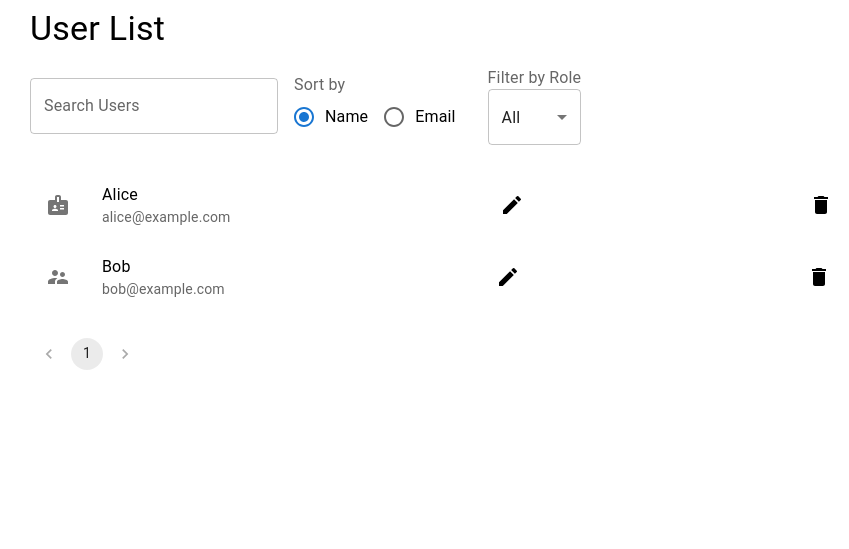
Scenario: UserEmployeeListMittel Component › should remove a user from the list
The width and height of the screenshot is (849, 549).
Click the button named "delete-Alice" at point(821, 206), box [809,194,833,218]
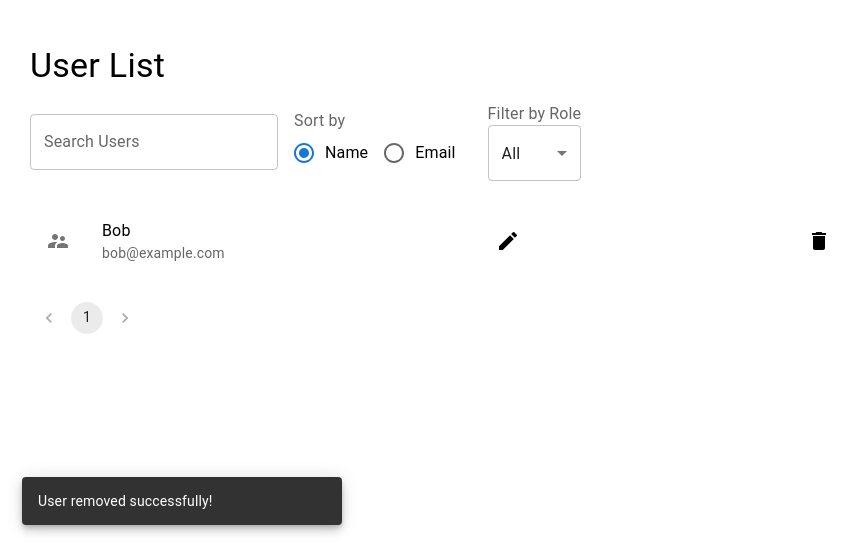
Expected: the text "Alice" is gone
Expected: the text "User removed successfully!" is shown, [38,493,213,509]
